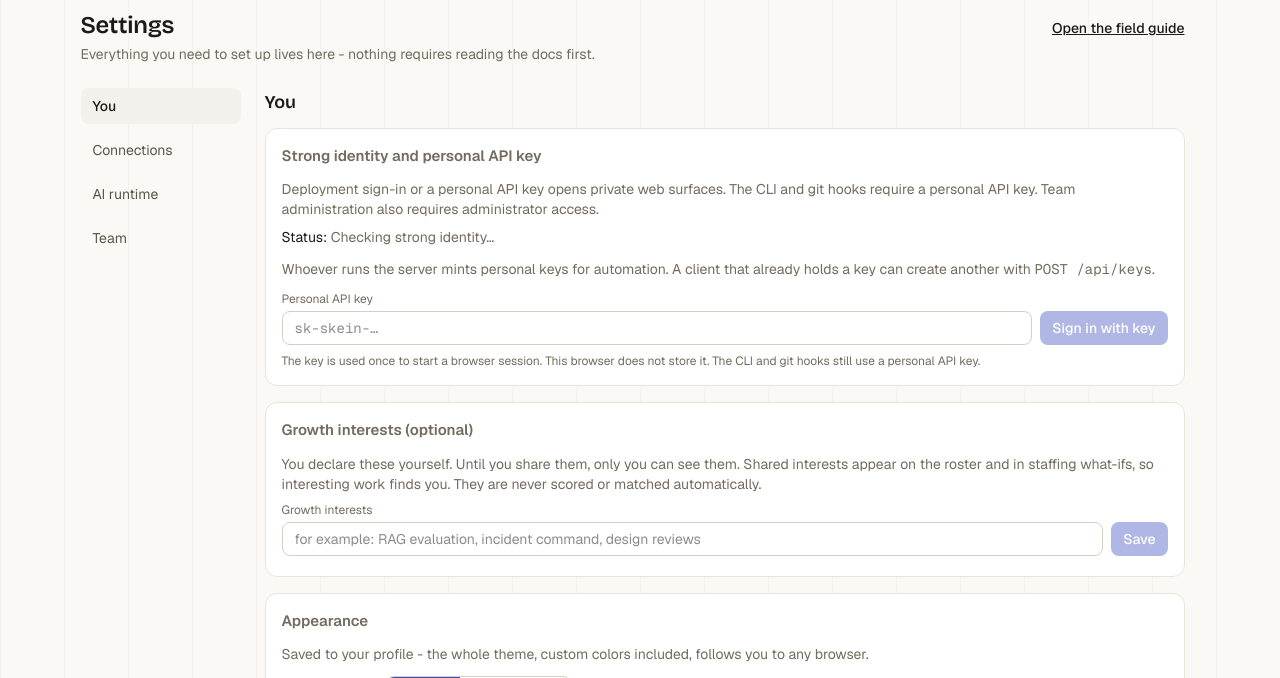
Test: Settings roster confirmations › shows roster loading without claiming that nobody exists
Click the link "Team".
click(110, 238)  # box [92,229,127,247]
(page scrolled)
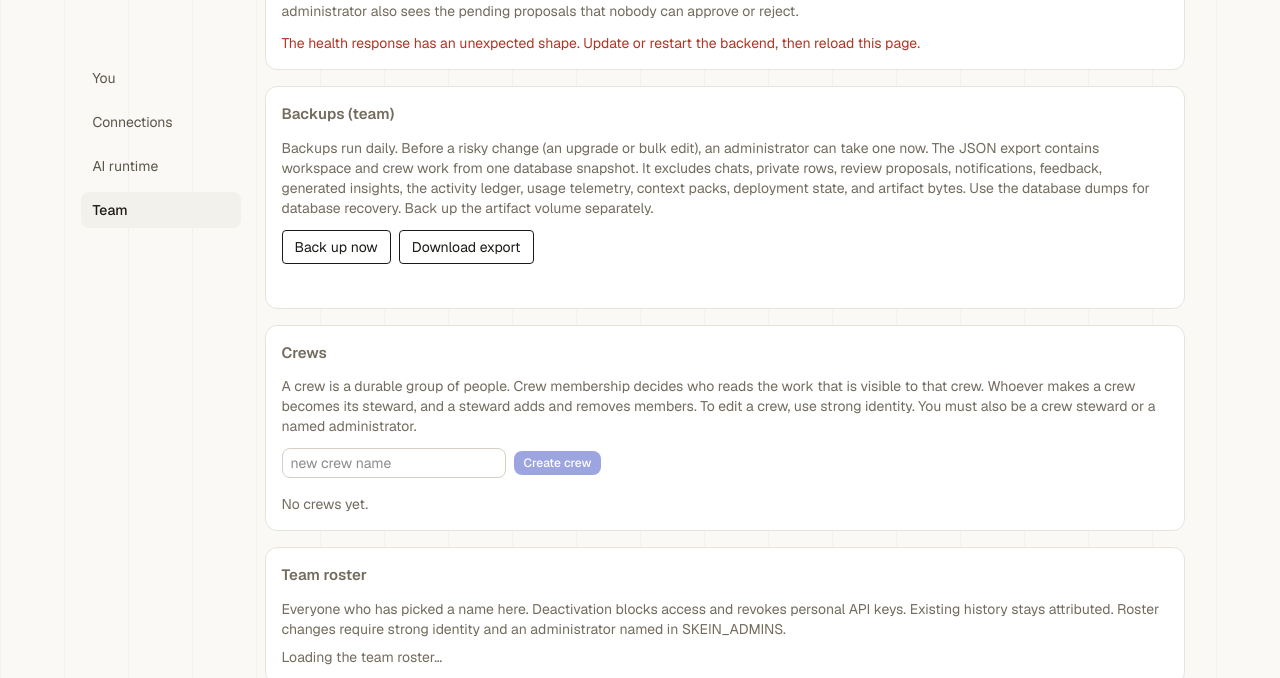
Expected: the text "Loading the team roster…" is shown, [282,648,442,666]
